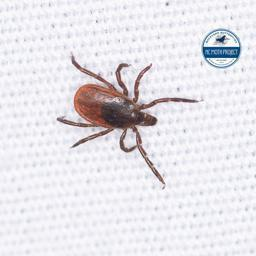Ixodes scapularis: (68, 48, 210, 170)
